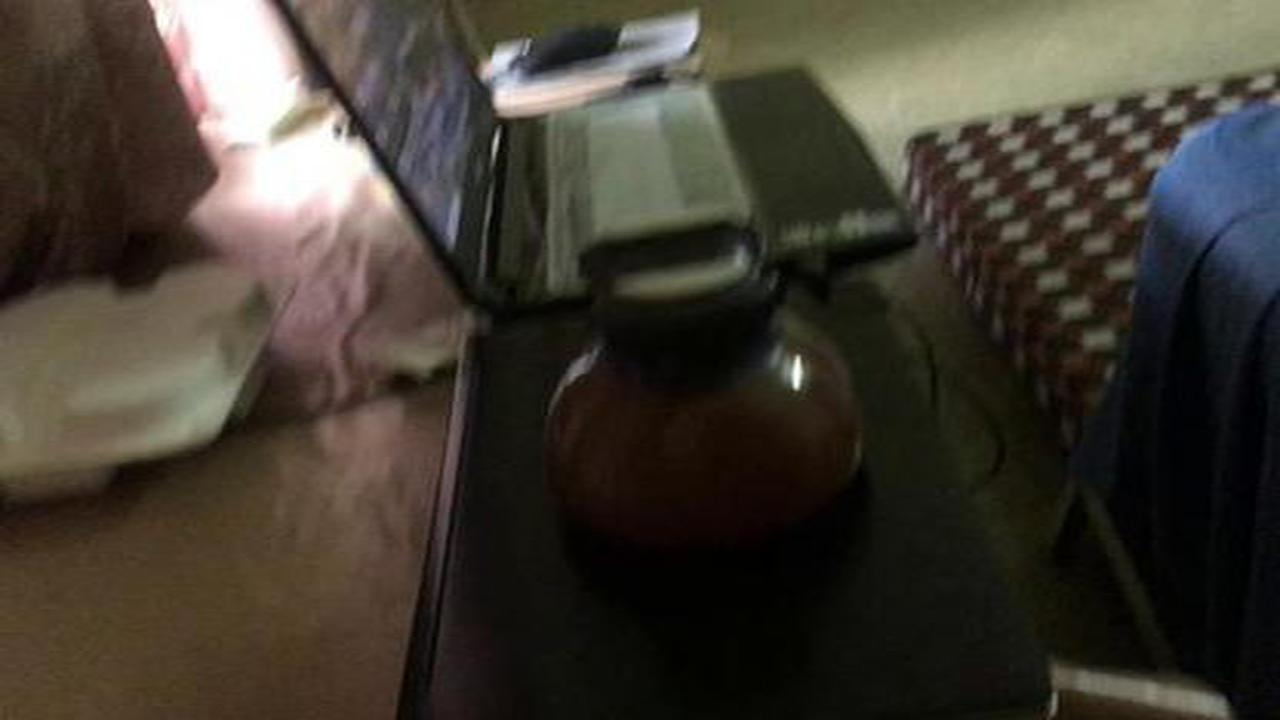insulator_pin: (508, 191, 899, 584)
